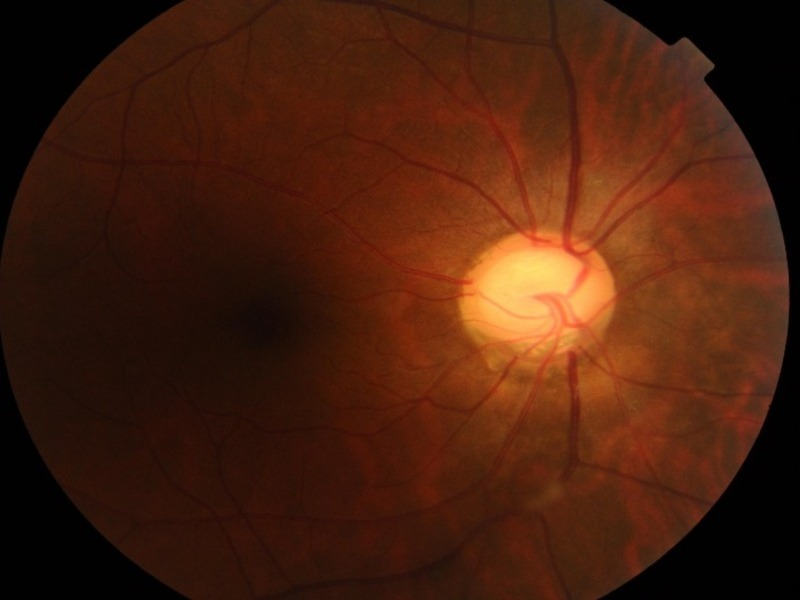Optic Cup: (498, 249, 574, 321)
Optic Disc: (459, 228, 617, 363)
